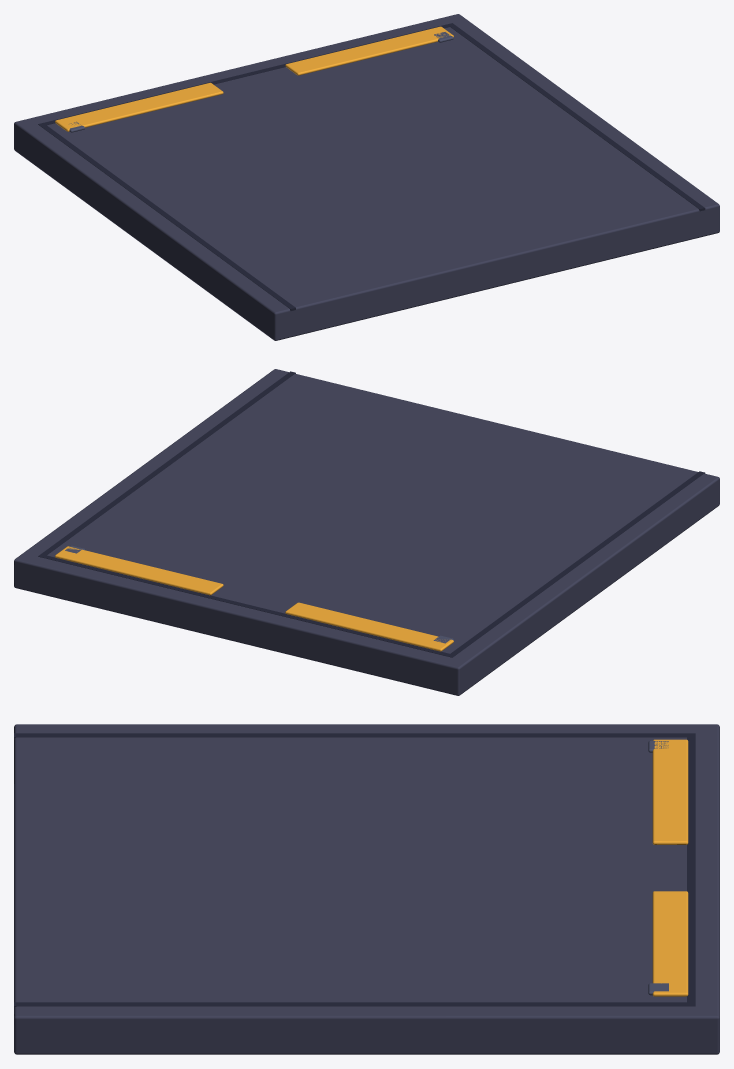
File: floor.plate.WEN+hzdn.glb
The picture shows the model from 3 angles, top to bottom: view 1: azimuth 30°, elevation 25°; view 2: azimuth 150°, elevation 25°; view 3: azimuth 270°, elevation 25°; orthographic projection. The views are drawn at different scales.
Parts seen in each view (by area): view 1: floor.plate.WEN+hzdn; view 2: floor.plate.WEN+hzdn; view 3: floor.plate.WEN+hzdn.
Boxes of the visible parts, x1,y1,x2,y2 form: floor.plate.WEN+hzdn: (14,14,719,340); floor.plate.WEN+hzdn: (14,369,719,695); floor.plate.WEN+hzdn: (14,724,719,1054).
Size of the model in its own units: 0.968 by 0.066 by 0.984.
